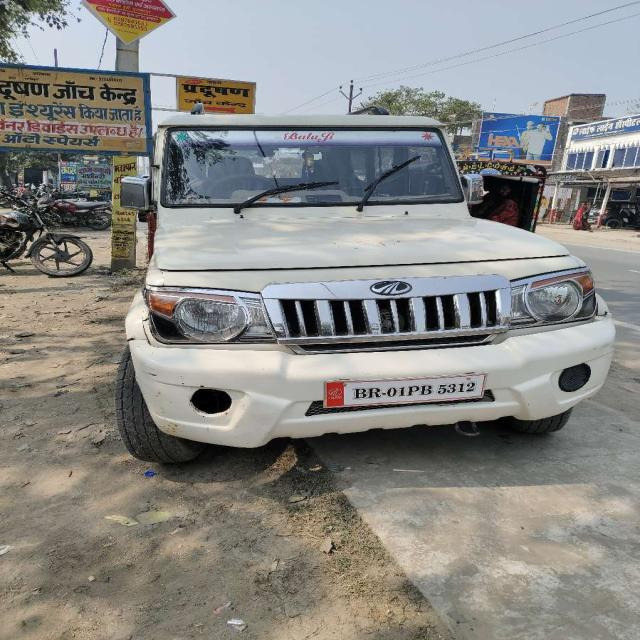light_vehicle: (124, 113, 610, 429)
